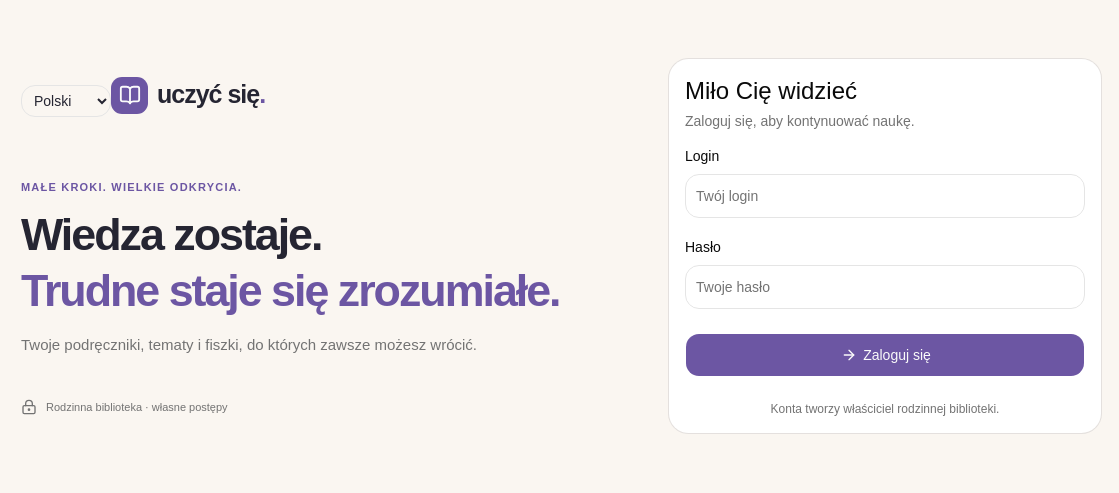
Scenario: a visible server error follows the interface language switch
Type "child" into the field labelled "Login".
click(885, 196); type("child")  # box [685, 174, 1085, 218]
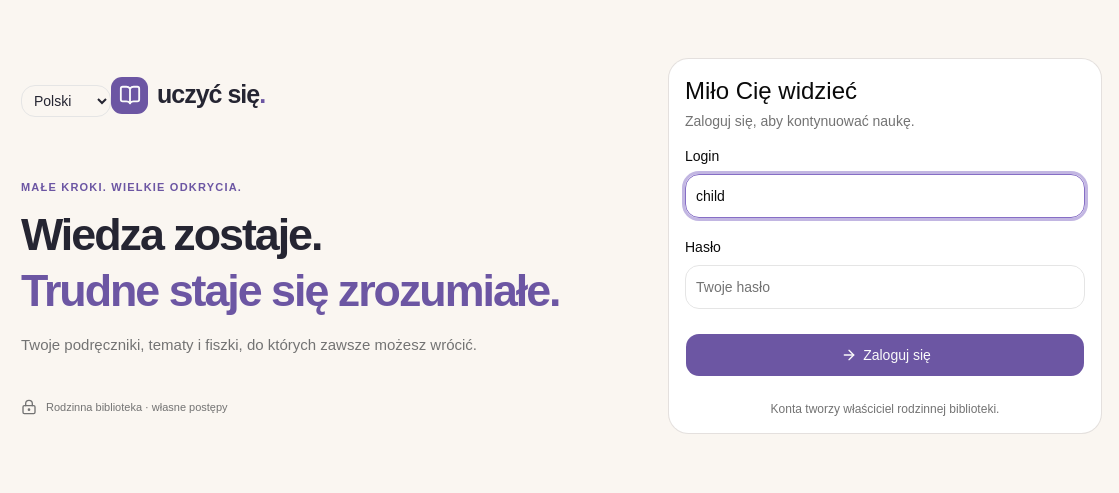
Type "wrong" into the password field labelled "Hasło".
click(885, 287); type("wrong")  # box [685, 265, 1085, 309]
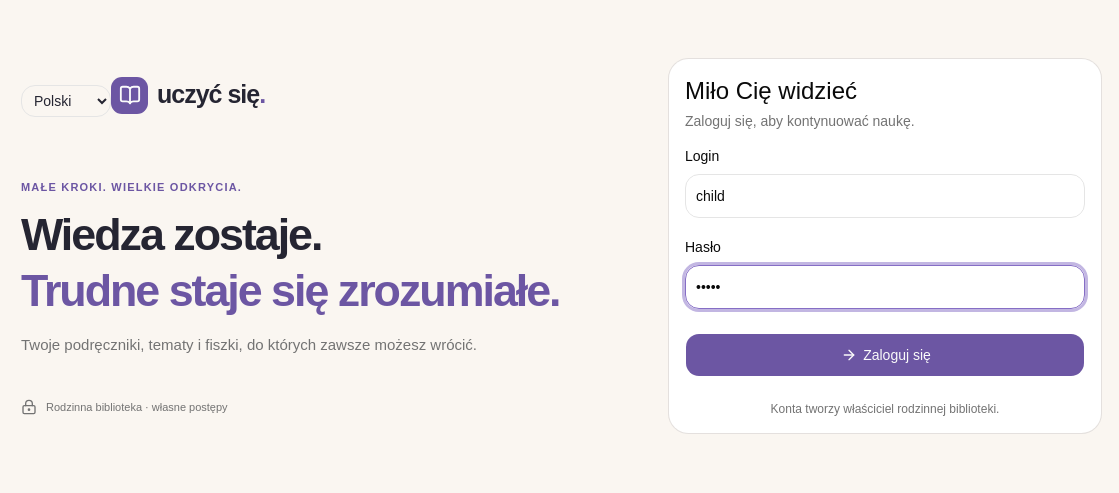
Click the button "Zaloguj się".
click(885, 355)  # box [685, 333, 1085, 377]
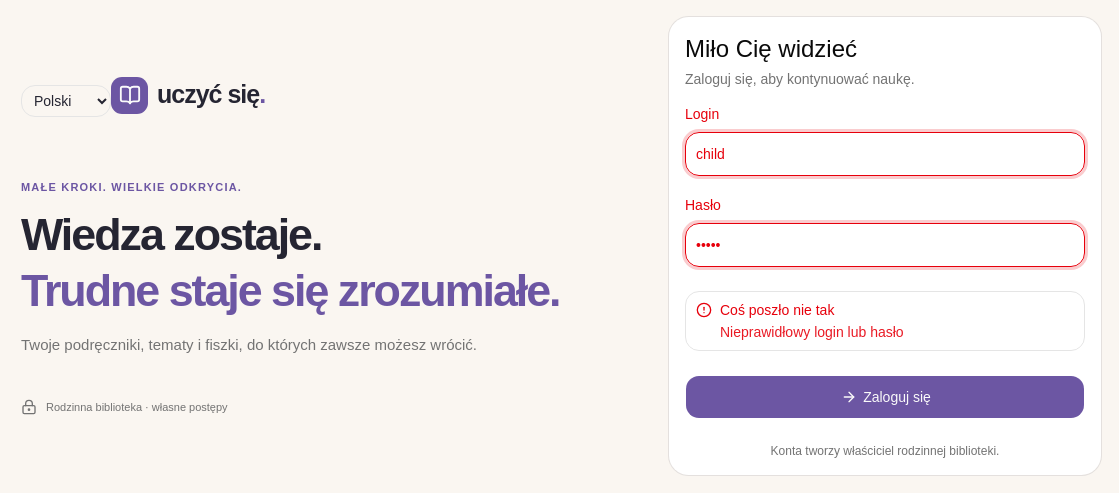
Expected: the text "Nieprawidłowy login lub hasło" is shown, [720, 324, 904, 340]
Select "English" in the dropdown named "Język interfejsu" at x=66, y=101, box [21, 85, 111, 117]
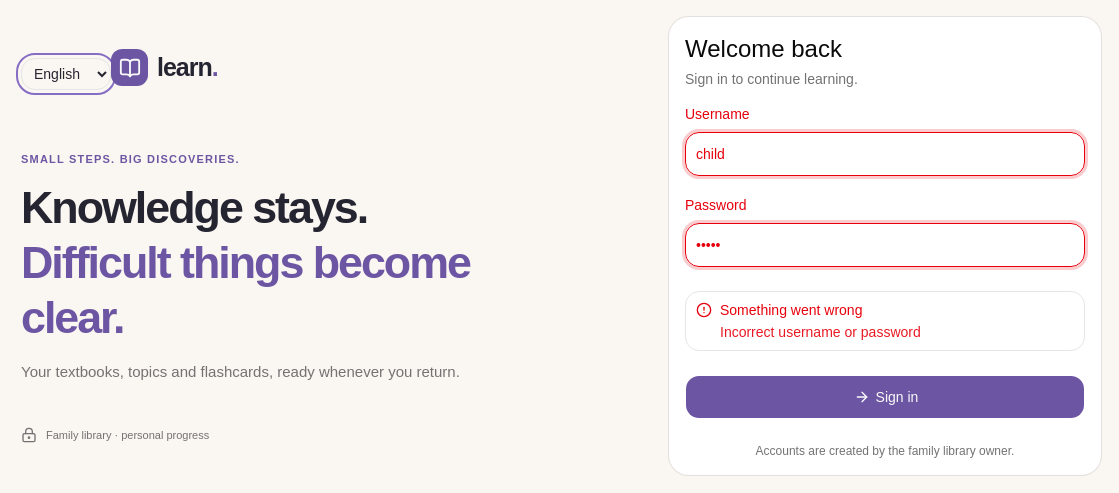
Expected: the text "Incorrect username or password" is shown, [720, 324, 921, 340]
